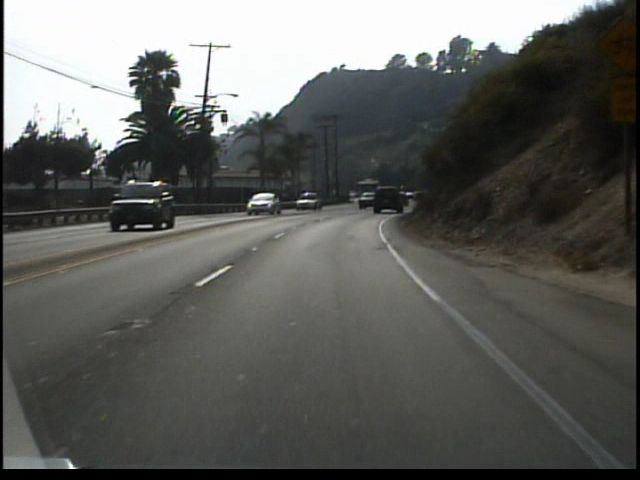car: (114, 180, 174, 234), (373, 185, 402, 213), (246, 192, 280, 214), (293, 187, 321, 211)
strada: (3, 222, 607, 460)
